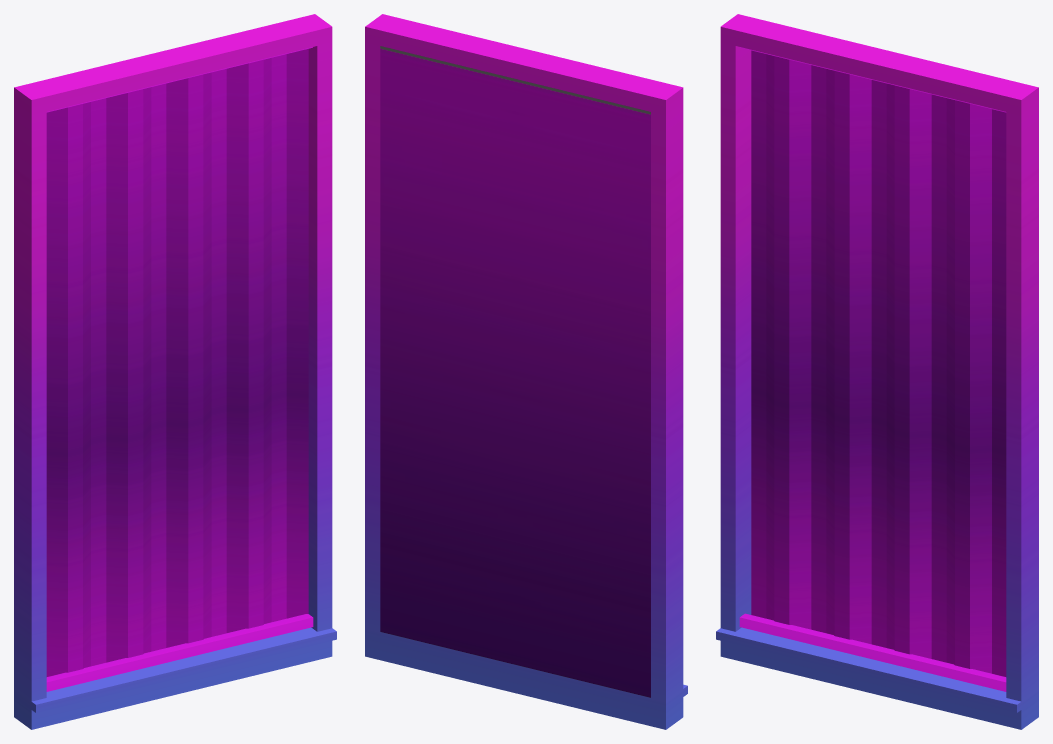
The model's file is panel_mid.gltf.
The picture shows the model from 3 angles, left to right: view 1: azimuth 30°, elevation 25°; view 2: azimuth 150°, elevation 25°; view 3: azimuth 330°, elevation 25°; orthographic projection.
Parts seen in each view (by area): view 1: Details.004, Plane.008, Neones.003; view 2: Plane.009, Plane.008; view 3: Details.004, Plane.008, Neones.003.
Boxes of the visible parts, x1,y1,x2,y2 form: Details.004: (46,49,308,676); Plane.008: (14,14,336,729); Neones.003: (46,47,313,691); Plane.009: (380,46,650,697); Plane.008: (365,14,687,729); Details.004: (751,50,1006,676); Plane.008: (716,14,1038,729); Neones.003: (739,47,1006,691).
Size of what is drawn, in the model's own units: 2 by 4 by 0.2507.
2 materials, 2 textured.
